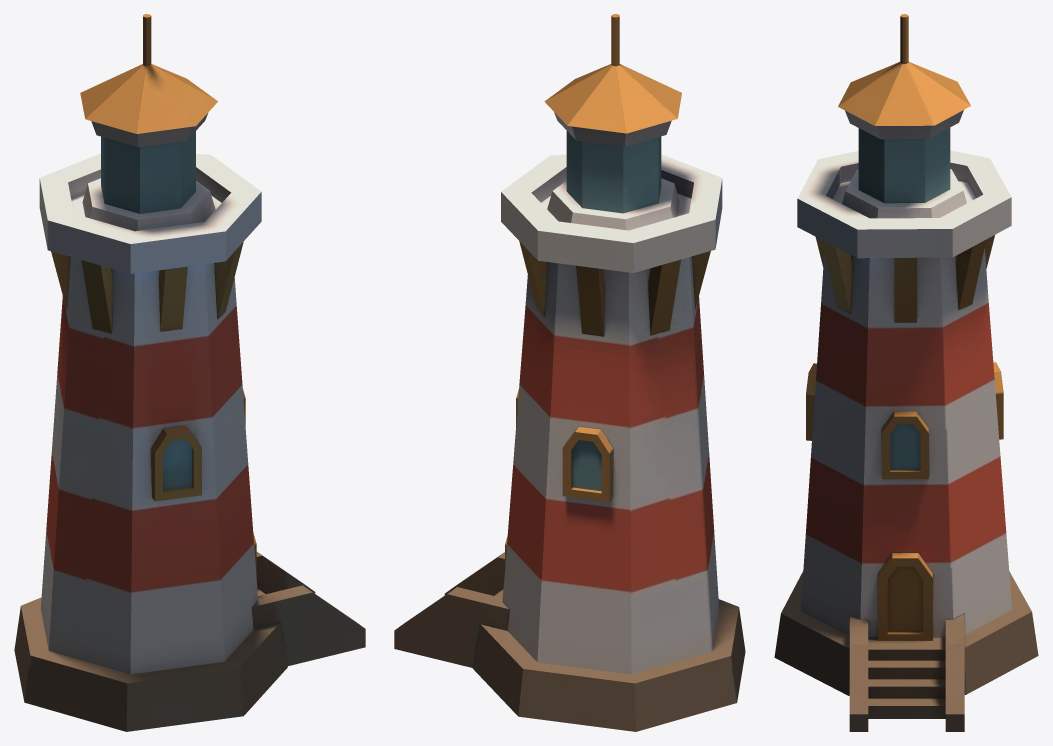
Rendered from Lighthouse.glb.
3 views of the same model, side by side, from view 1: azimuth 30°, elevation 25°; view 2: azimuth 150°, elevation 25°; view 3: azimuth 270°, elevation 25° (orthographic). The views are drawn at different scales.
Visible parts, largest first — view 1: lighthouse_Icosphere.029; view 2: lighthouse_Icosphere.029; view 3: lighthouse_Icosphere.029.
Part boxes in pixels (bbox=[...]): lighthouse_Icosphere.029: bbox=[14, 14, 365, 731]; lighthouse_Icosphere.029: bbox=[394, 14, 745, 731]; lighthouse_Icosphere.029: bbox=[774, 14, 1038, 731].
Size of the model in its own units: 1.55 by 3.13 by 1.19.
1 material, 1 textured.
